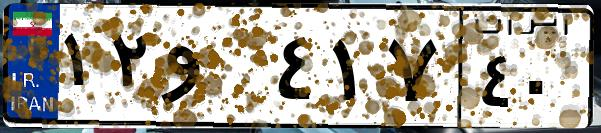0: (525, 38, 570, 115)
1: (330, 28, 385, 110), (57, 26, 110, 100)
2: (110, 28, 158, 98)
4: (270, 28, 330, 110), (475, 38, 525, 113)
7: (385, 28, 445, 110)
و: (158, 20, 270, 120)
